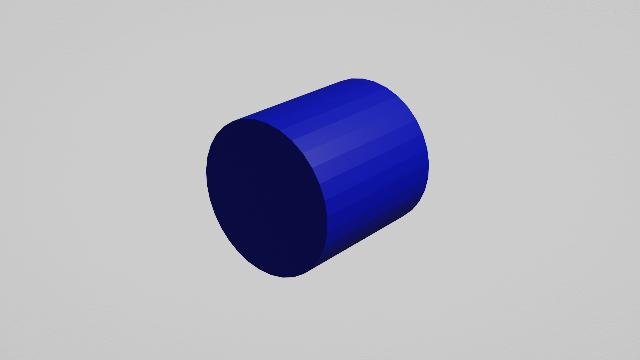Cylinder: (198, 75, 438, 283)
